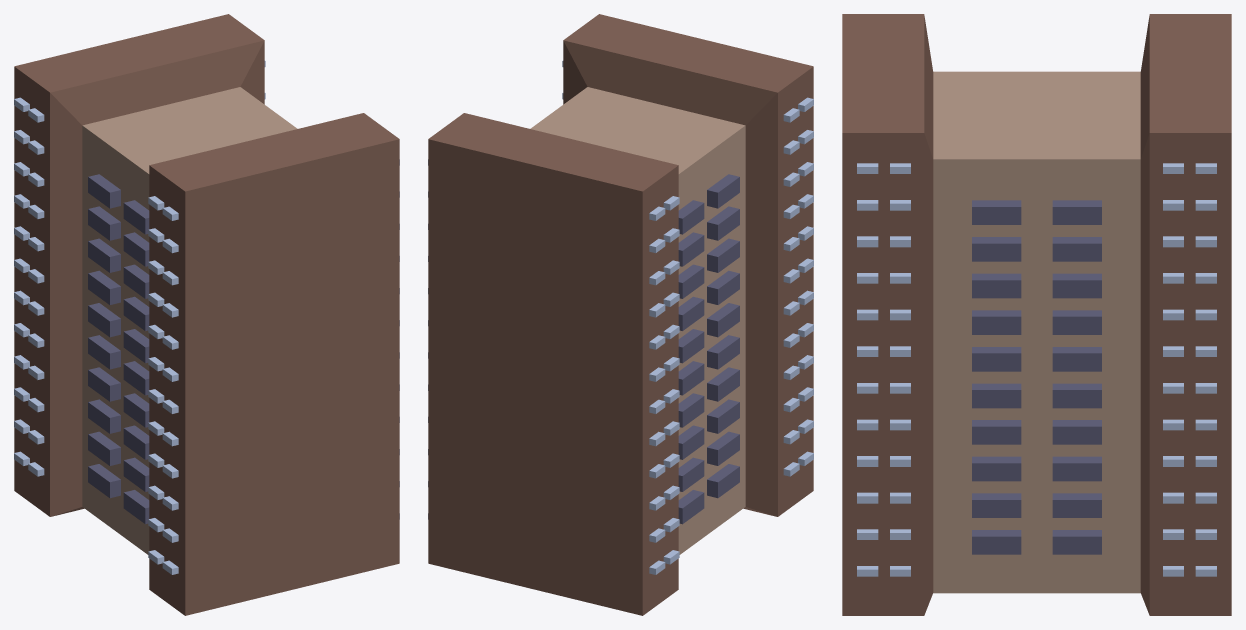
Rendered from H_gebouw1.fbx.
The picture shows the model from 3 angles, left to right: view 1: azimuth 30°, elevation 25°; view 2: azimuth 150°, elevation 25°; view 3: azimuth 270°, elevation 25°; orthographic projection. The views are drawn at different scales.
Visible parts, largest first — view 1: building, bigWindows, smallWindows; view 2: building, bigWindows, smallWindows; view 3: building, bigWindows, smallWindows.
Boxes of the visible parts, box(x1,y1,x2,y2) form: building: box(14, 14, 399, 615); bigWindows: box(88, 174, 149, 524); smallWindows: box(14, 60, 399, 574); building: box(428, 14, 813, 615); bigWindows: box(678, 174, 739, 524); smallWindows: box(428, 60, 813, 574); building: box(842, 14, 1231, 615); bigWindows: box(972, 200, 1101, 554); smallWindows: box(857, 163, 1216, 576).
Size of the model in its own units: 7.41 by 13.19 by 9.63.
